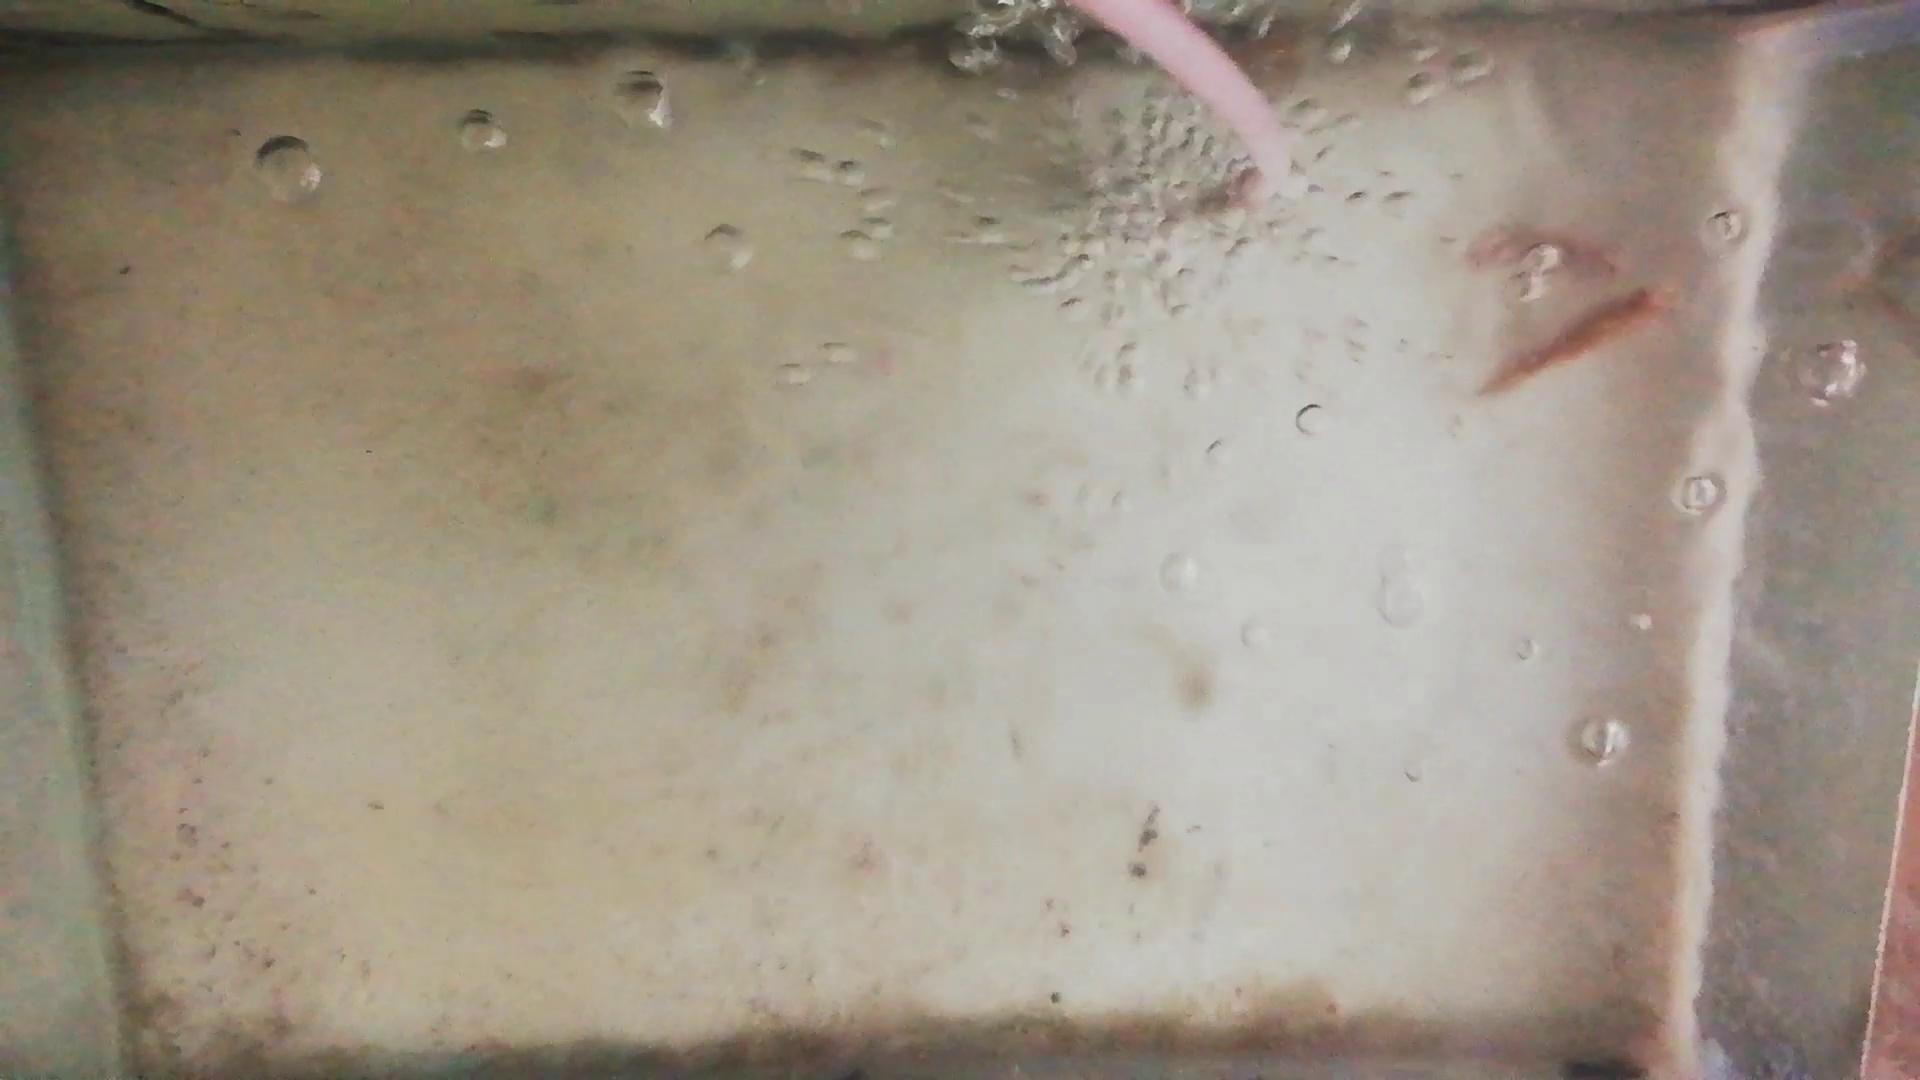fish: (1470, 281, 1675, 400), (1460, 222, 1625, 285)
